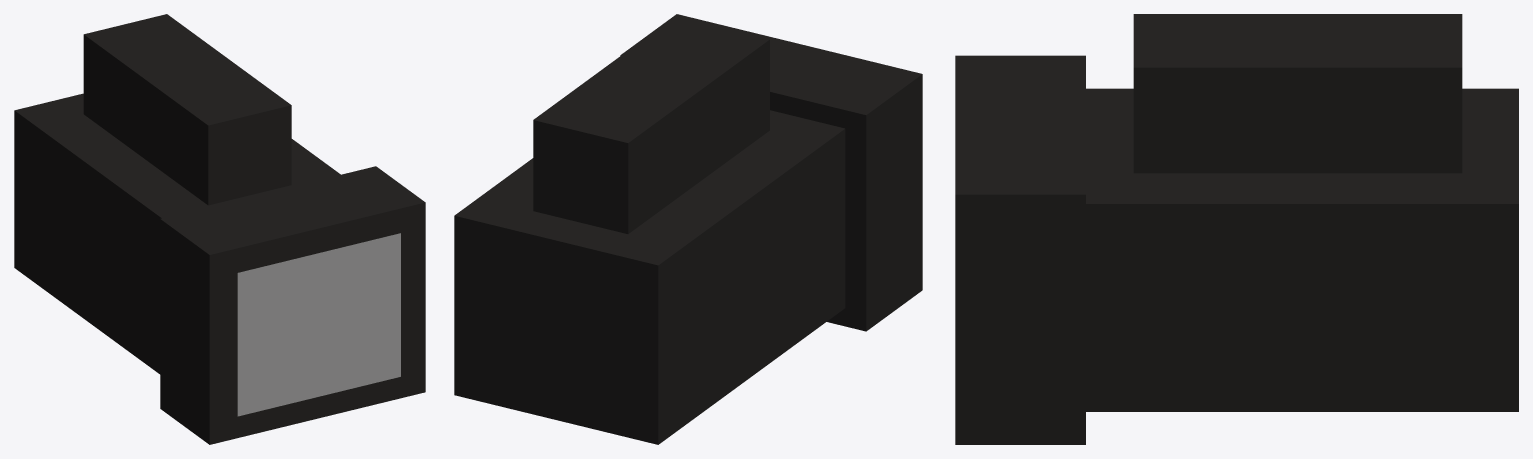
The model's file is Pistol_Flashlight.FBX.
The picture shows the model from 3 angles, left to right: view 1: azimuth 30°, elevation 25°; view 2: azimuth 150°, elevation 25°; view 3: azimuth 270°, elevation 25°; orthographic projection. The views are drawn at different scales.
Parts seen in each view (by area): view 1: Pistol_flashlight; view 2: Pistol_flashlight; view 3: Pistol_flashlight.
Part boxes in pixels (bbox=[...]): Pistol_flashlight: bbox=[14, 14, 425, 444]; Pistol_flashlight: bbox=[454, 14, 922, 444]; Pistol_flashlight: bbox=[955, 14, 1518, 444].
Bounding box in the file's own units: 7.41 × 12.8 × 8.32.
